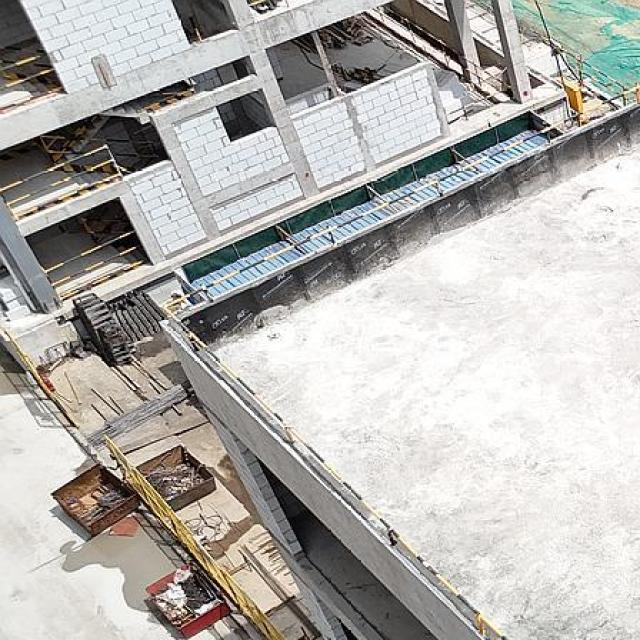edge_guardrail: (163, 81, 640, 640), (0, 143, 126, 220), (44, 229, 146, 301), (372, 4, 464, 69), (0, 50, 66, 114), (563, 49, 626, 94), (466, 58, 504, 92)
